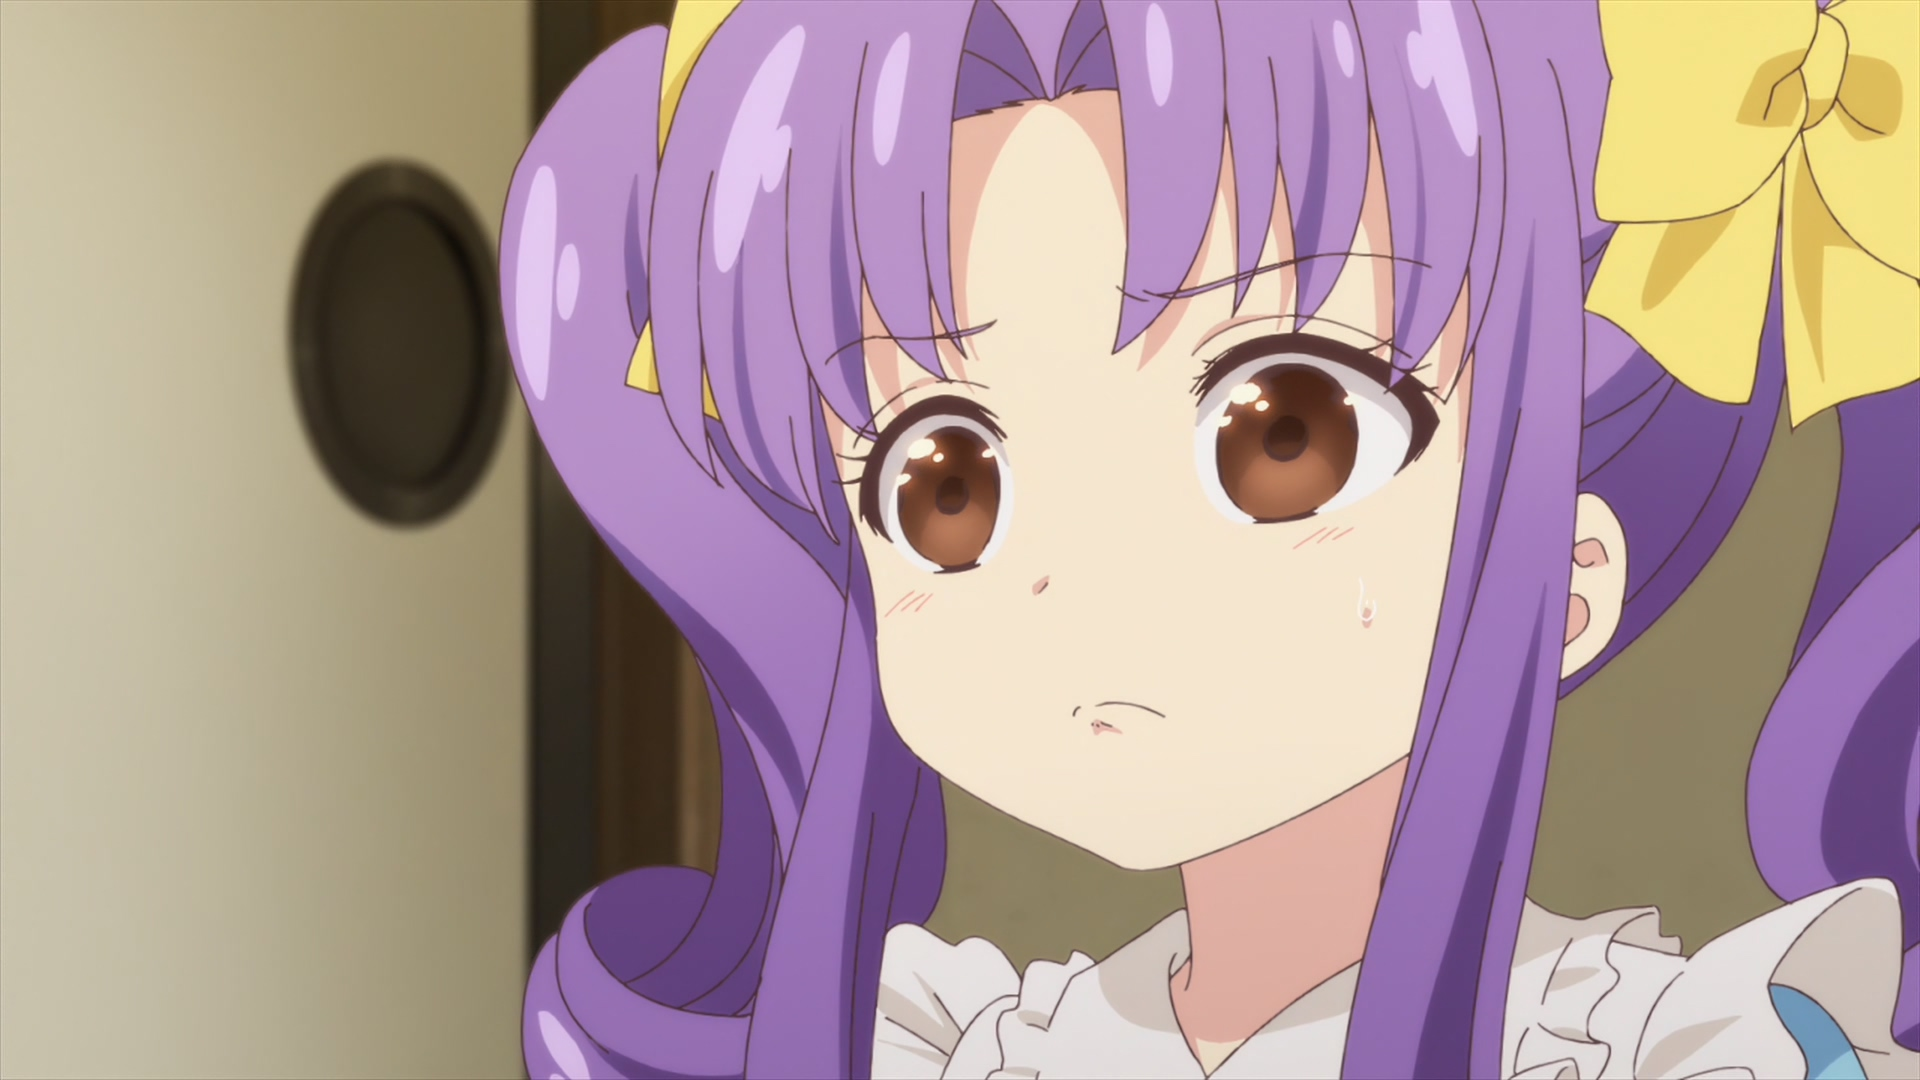阿菊: (498, 1, 1920, 1080)
